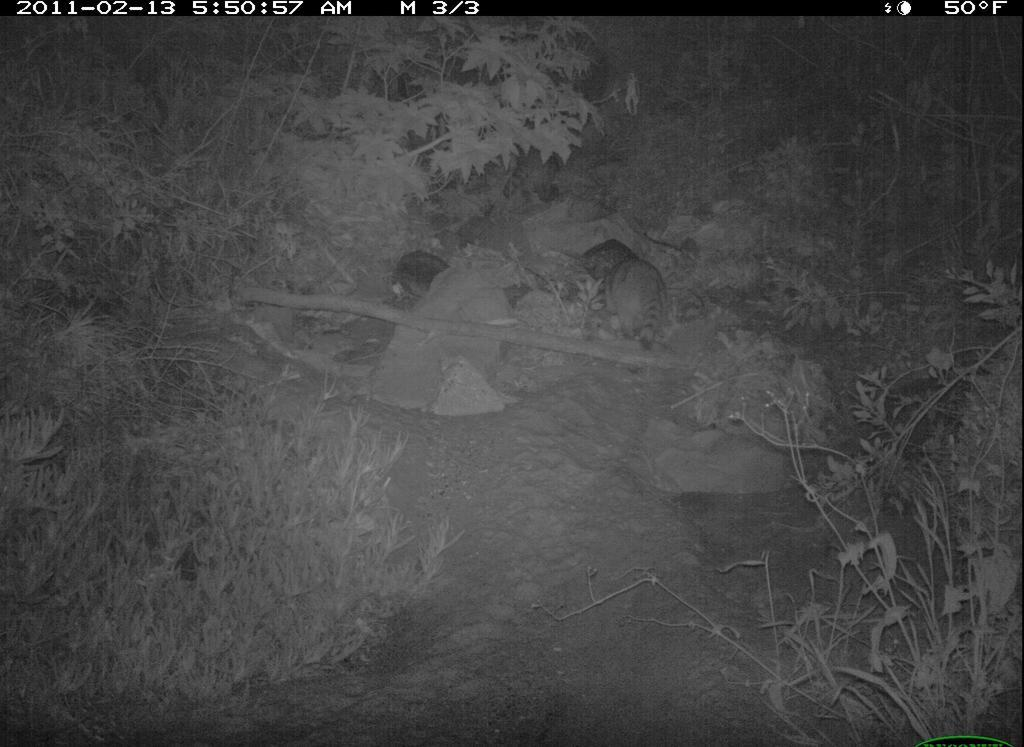raccoon: (583, 233, 681, 356)
